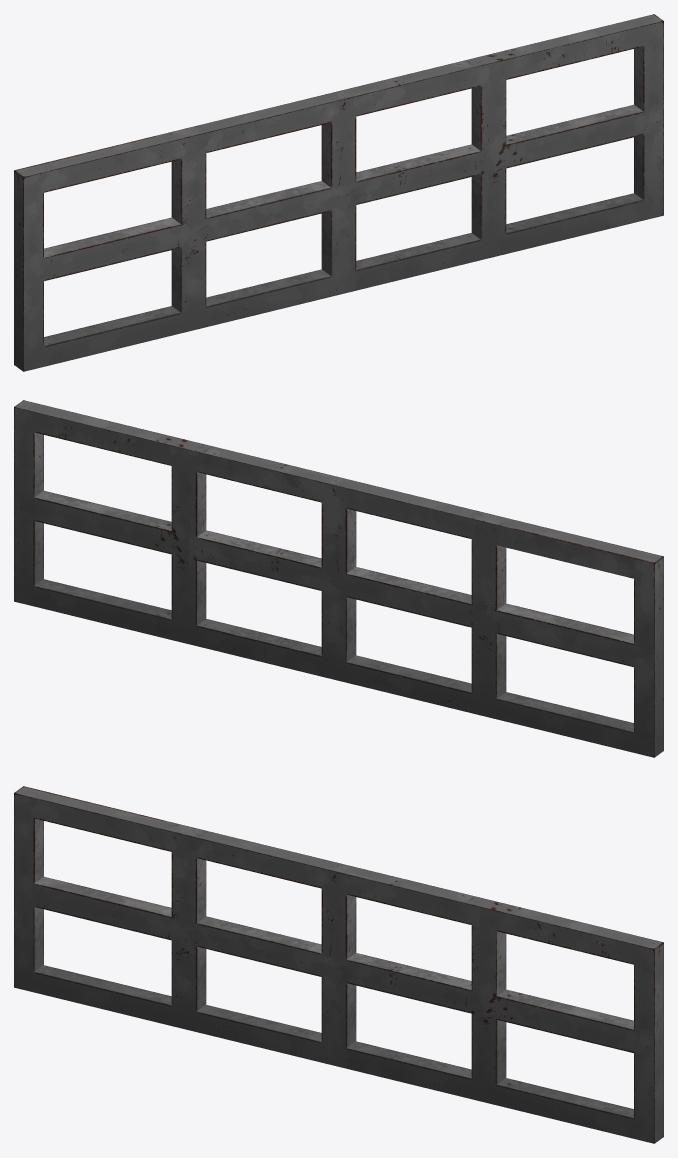
Rendered from Factory_Korkuluk.fbx.
The picture shows the model from 3 angles, top to bottom: view 1: azimuth 30°, elevation 25°; view 2: azimuth 150°, elevation 25°; view 3: azimuth 330°, elevation 25°; orthographic projection.
Visible parts, largest first — view 1: Plane.011; view 2: Plane.011; view 3: Plane.011.
Part boxes in pixels (x1=…): Plane.011: x1=14, y1=14, x2=663, y2=371; Plane.011: x1=14, y1=400, x2=663, y2=757; Plane.011: x1=14, y1=786, x2=663, y2=1143.
Bounding box in the file's own units: 304 × 88.09 × 7.81.
Materials: 1 (1 with a texture image).
